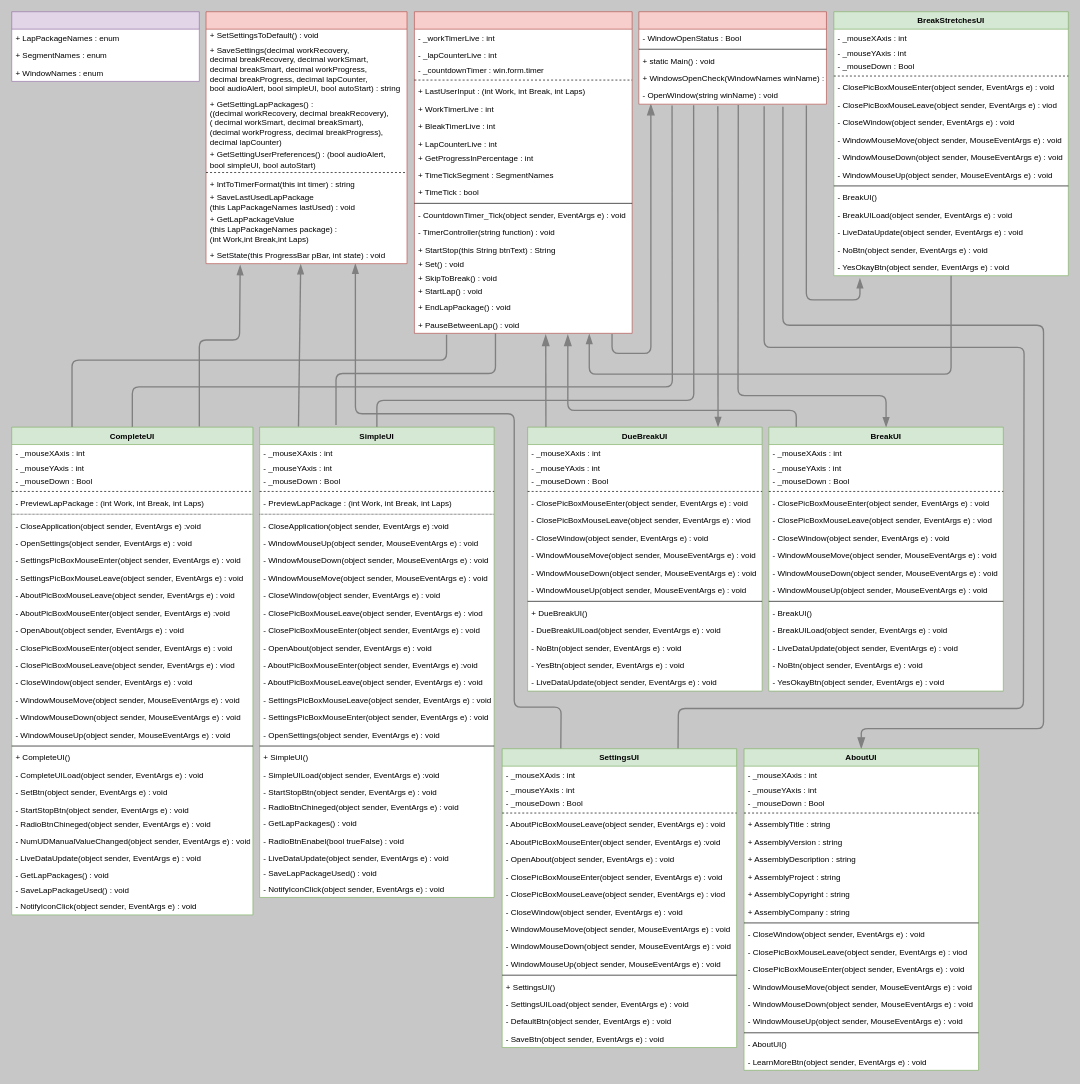
Image size: 1080x1084. Some labels were removed from this diagram. Each missing label, with the box of its shape:
Countdown : Static: (414, 11, 632, 333)
Enums: (11, 11, 199, 81)
GetSetSettingsData : Static: (205, 11, 407, 264)
WindowBehavior: (638, 11, 826, 104)
